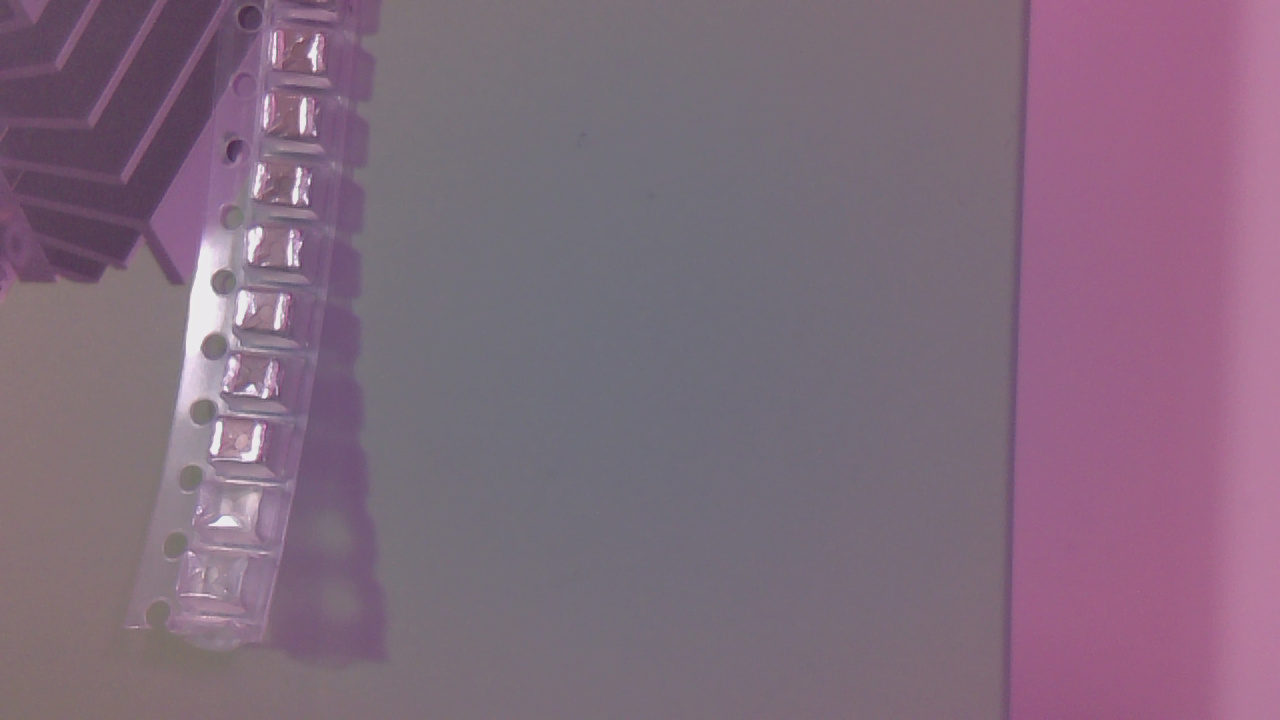Condensator: (238, 289, 298, 338), (272, 30, 330, 78), (249, 230, 310, 274), (266, 95, 325, 140), (230, 357, 286, 404), (217, 422, 271, 469), (256, 167, 318, 206)
